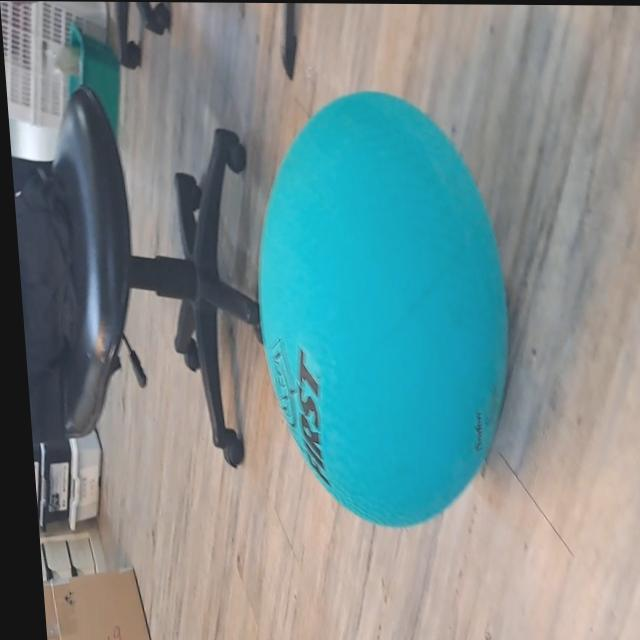ALGAE: (240, 88, 526, 531)
